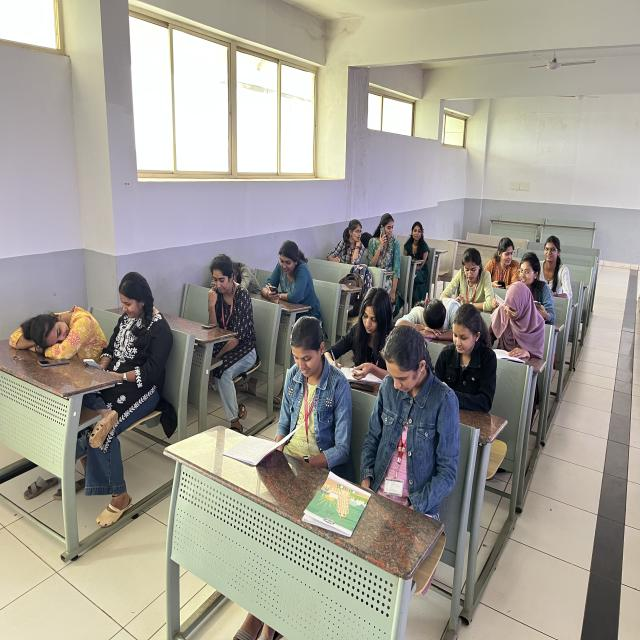Sleeping: (402, 294, 463, 342)
Using Phone: (274, 313, 348, 502), (199, 251, 257, 368), (261, 236, 316, 312), (367, 211, 403, 274), (486, 234, 520, 288)
Writing: (435, 303, 510, 402), (324, 277, 395, 380), (485, 276, 550, 366)
